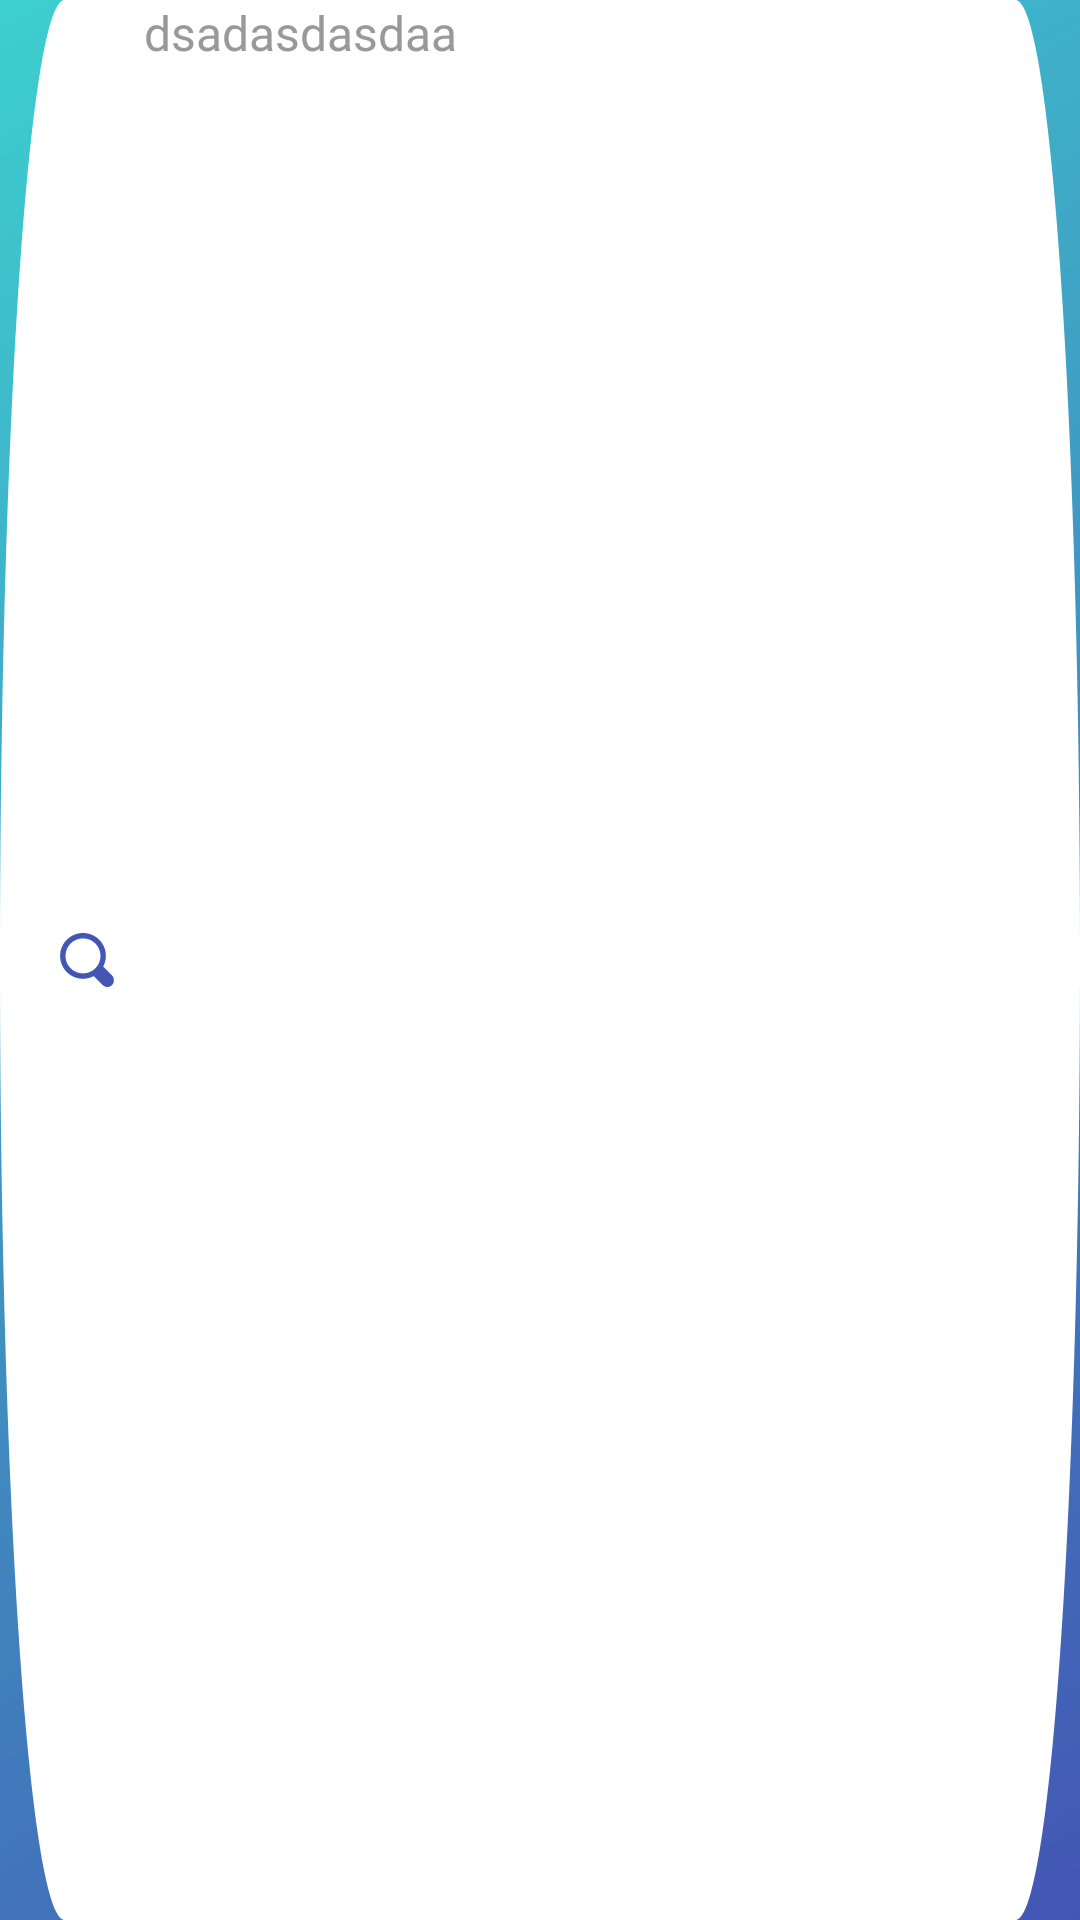

Icon bounding boxes for this 1080w x 1920h phone screenshot, format (x1, y1, x2, y2):
search: (60, 933, 114, 987)
